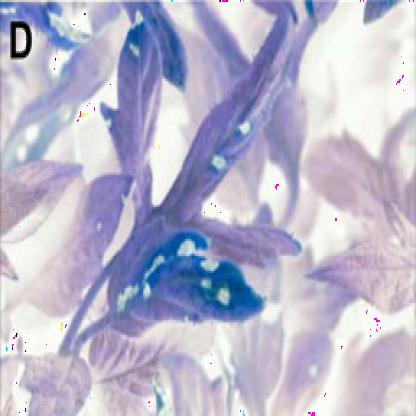Tomato leaf bacterial spot: (103, 13, 285, 341)
